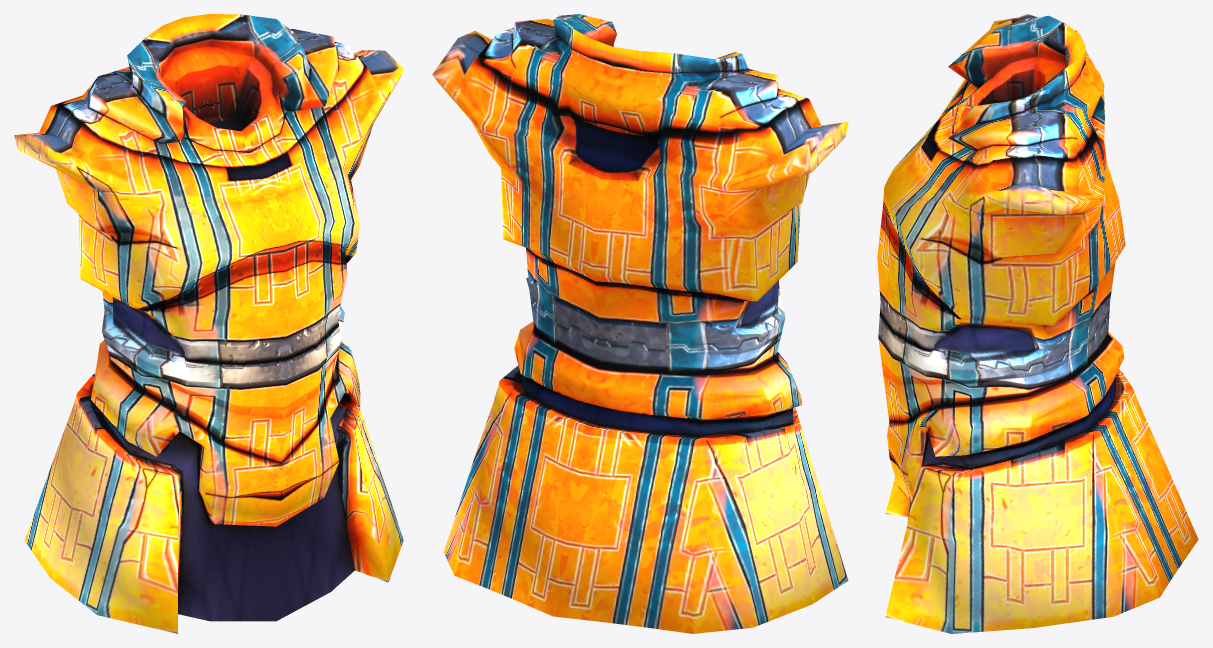
Rendered from 6cfdb3ba-4753-4960-be66-5dacf9899d35.glb.
The picture shows the model from 3 angles, left to right: view 1: azimuth 30°, elevation 25°; view 2: azimuth 150°, elevation 25°; view 3: azimuth 270°, elevation 25°; orthographic projection. The views are drawn at different scales.
Parts seen in each view (by area): view 1: armor_LP; view 2: armor_LP; view 3: armor_LP.
Part boxes in pixels (x1,y1,x2,y2): armor_LP: (14,14,403,633); armor_LP: (432,14,848,633); armor_LP: (877,14,1198,633).
Size of what is drawn, in the model's own units: 0.577 by 0.84 by 0.4548.
Materials: 1 (1 with a texture image).
